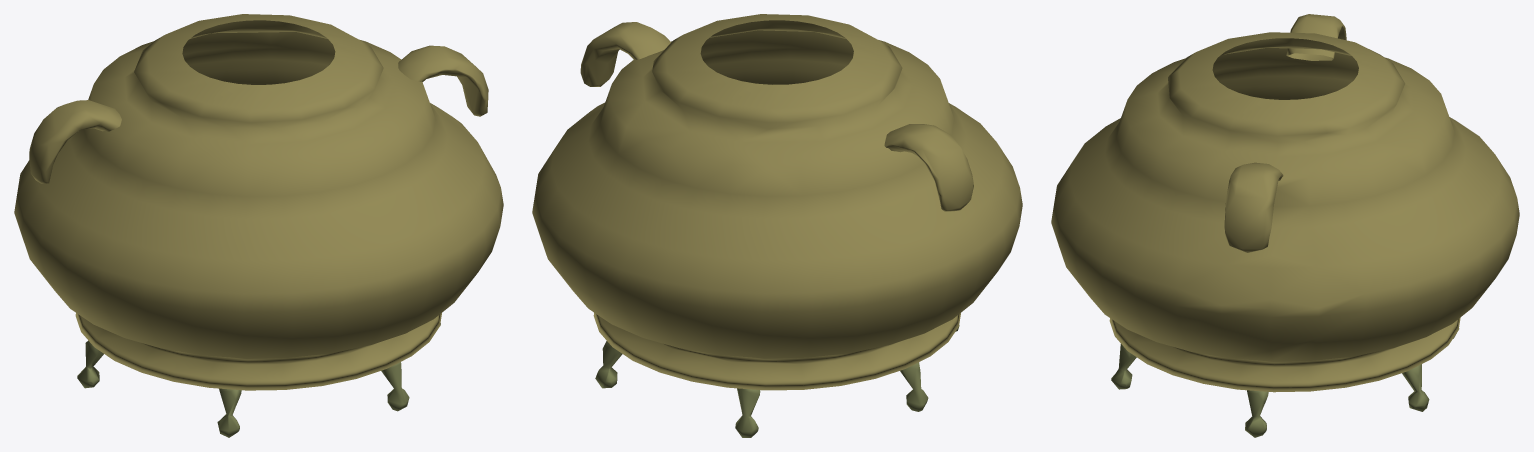
The model's file is metal pot.fbx.
The picture shows the model from 3 angles, left to right: view 1: azimuth 30°, elevation 25°; view 2: azimuth 150°, elevation 25°; view 3: azimuth 270°, elevation 25°; orthographic projection. The views are drawn at different scales.
Visible parts, largest first — view 1: potCopper1Flower; view 2: potCopper1Flower; view 3: potCopper1Flower.
Boxes of the visible parts, left/top/right/bottom form: potCopper1Flower: left=14, top=14, right=503, bottom=437; potCopper1Flower: left=532, top=14, right=1022, bottom=437; potCopper1Flower: left=1051, top=14, right=1519, bottom=437.
Size of the model in its own units: 6.64 by 4.62 by 6.65.
